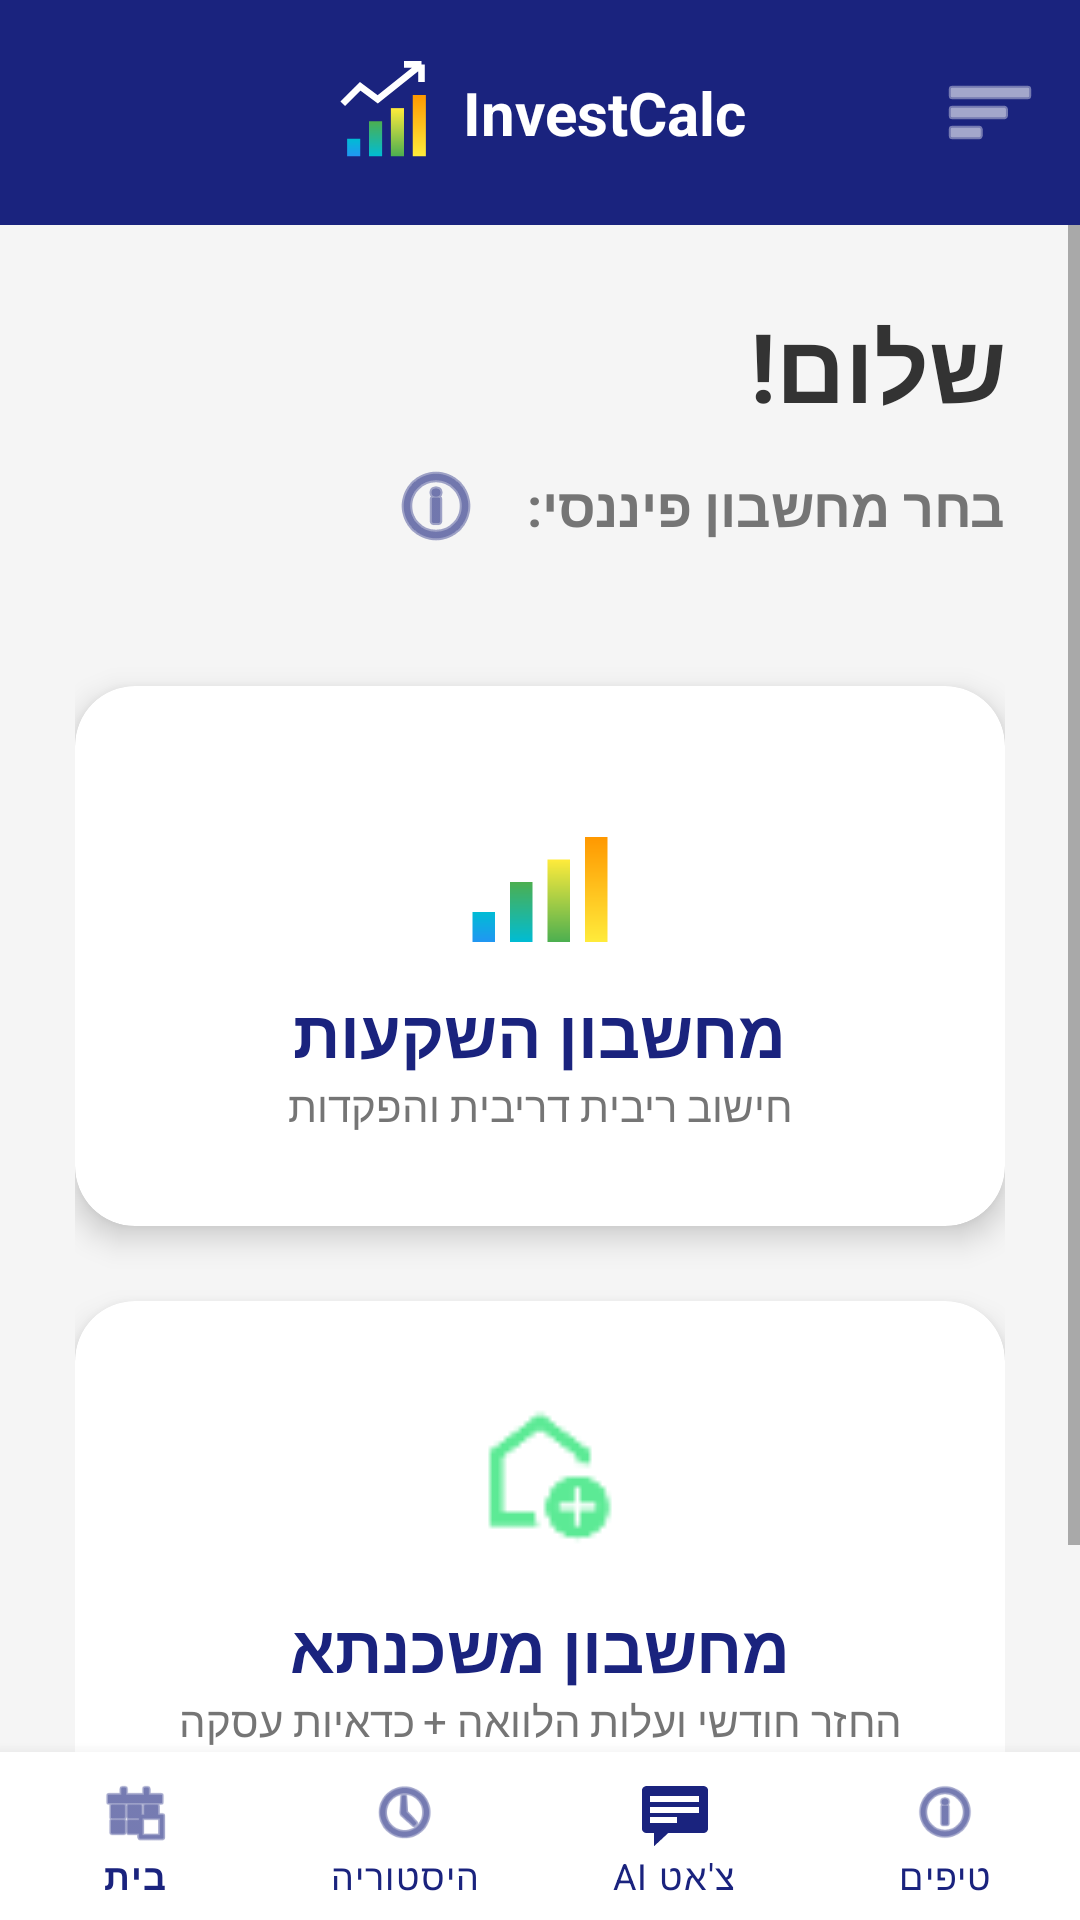

Icon bounding boxes for this 1080w x 1920h phone screenshot, format (x1, y1, x2, y2):
growth graph: (340, 61, 426, 157), (472, 837, 608, 942)
sort by size: (949, 86, 1031, 139)
מידע נוסף: (401, 472, 471, 541)
